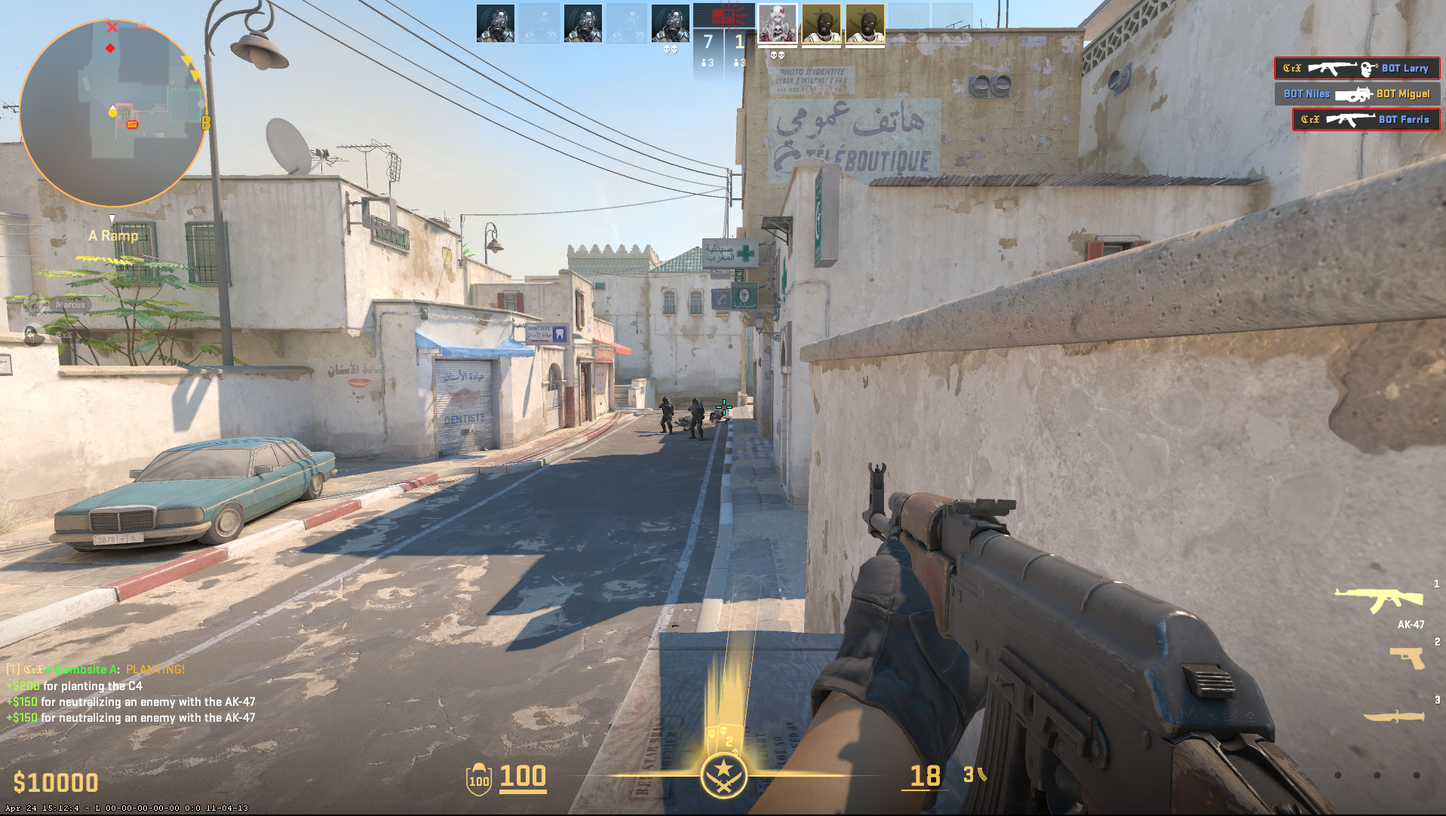CT: (688, 398, 705, 440), (659, 396, 673, 434)
